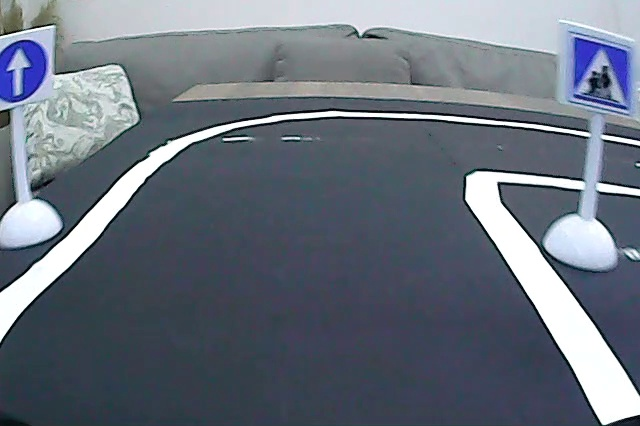school crossing: (567, 32, 633, 114)
